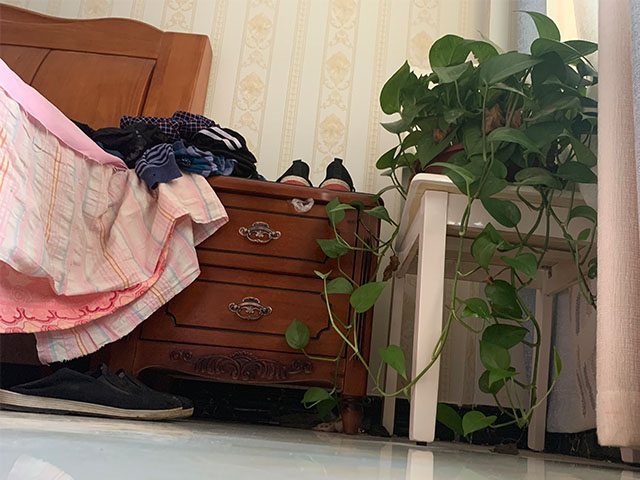bed: (1, 4, 215, 372)
cabinet: (108, 171, 385, 437)
curtain: (515, 1, 640, 449)
stool: (381, 170, 640, 468)
